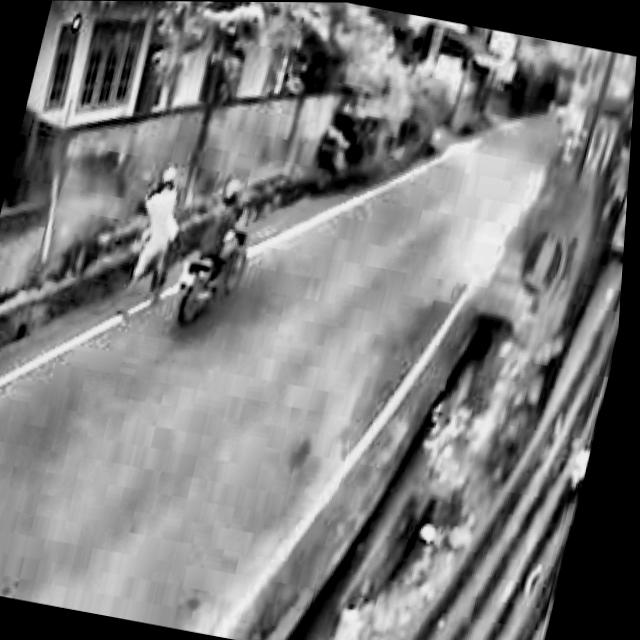robbery: (114, 149, 272, 339)
